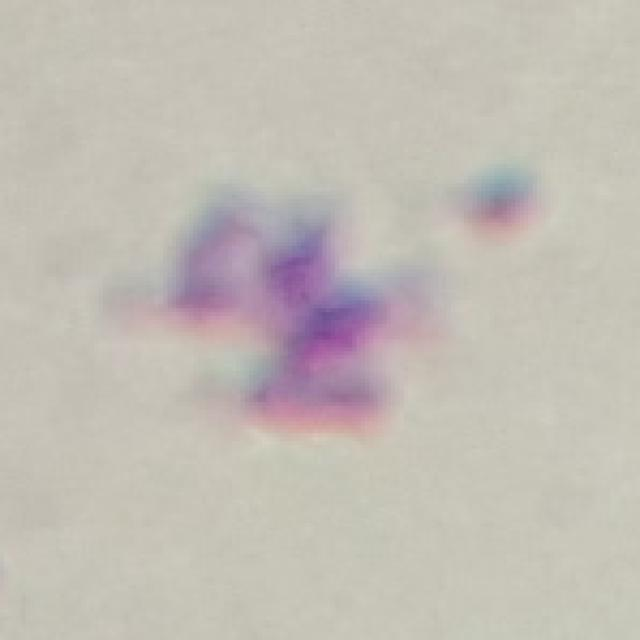non-sperm: (174, 188, 394, 432)
